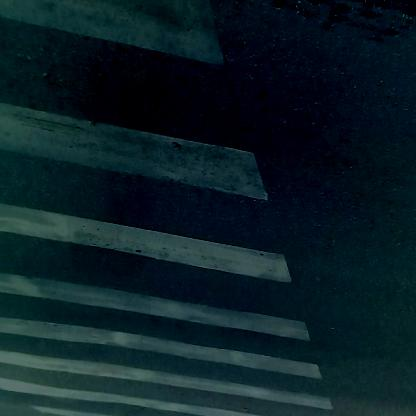crosswalk: (1, 2, 334, 410)
